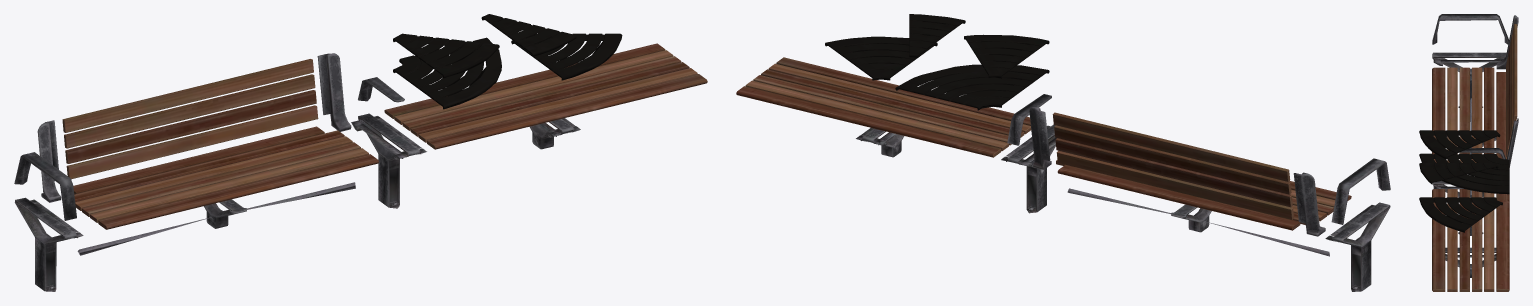
3 views of the same model, side by side, from view 1: azimuth 30°, elevation 25°; view 2: azimuth 150°, elevation 25°; view 3: azimuth 270°, elevation 25° (orthographic). The views are drawn at different scales.
Parts seen in each view (by area): view 1: seat_back, seat, seat_bench, connector_90, legs_double, connector_45, legs_single, connector_60, connector_30, back_support_l, arm_rest_01, back_support_r (+4 smaller); view 2: seat_bench, seat_back, connector_90, seat, connector_60, legs_single, connector_45, legs_double, connector_30, arm_rest_01, back_support_r, back_support_l (+4 smaller); view 3: seat_bench, seat, connector_90, connector_60, connector_45, seat_back, connector_30, legs_single, arm_rest_01, back_support_r, back_support_l, legs_double (+2 smaller).
Boxes of the visible parts, bbox=[...] form: seat_back: bbox=[62, 59, 318, 179]; seat: bbox=[73, 126, 378, 229]; seat_bench: bbox=[384, 43, 707, 149]; connector_90: bbox=[393, 37, 501, 109]; legs_double: bbox=[351, 113, 426, 208]; connector_45: bbox=[393, 33, 499, 78]; legs_single: bbox=[14, 197, 83, 291]; connector_60: bbox=[511, 33, 622, 80]; connector_30: bbox=[481, 14, 576, 56]; back_support_l: bbox=[317, 53, 351, 131]; arm_rest_01: bbox=[14, 152, 76, 220]; back_support_r: bbox=[37, 120, 61, 202]; seat_bench: bbox=[736, 57, 1031, 157]; seat_back: bbox=[1052, 112, 1294, 219]; connector_90: bbox=[895, 64, 1049, 110]; seat: bbox=[1056, 160, 1351, 230]; connector_60: bbox=[825, 36, 937, 80]; legs_single: bbox=[1325, 202, 1390, 291]; connector_45: bbox=[964, 34, 1049, 78]; legs_double: bbox=[1001, 124, 1056, 213]; connector_30: bbox=[909, 14, 965, 57]; arm_rest_01: bbox=[1331, 158, 1390, 224]; back_support_r: bbox=[1293, 172, 1325, 236]; back_support_l: bbox=[1029, 107, 1051, 169]; seat_bench: bbox=[1432, 189, 1509, 291]; seat: bbox=[1432, 67, 1506, 162]; connector_90: bbox=[1419, 153, 1509, 194]; connector_60: bbox=[1419, 197, 1502, 232]; connector_45: bbox=[1419, 130, 1500, 159]; seat_back: bbox=[1506, 24, 1517, 157]; connector_30: bbox=[1419, 163, 1498, 184]; legs_single: bbox=[1432, 52, 1506, 107]; arm_rest_01: bbox=[1432, 14, 1508, 44]; back_support_r: bbox=[1496, 15, 1518, 69]; back_support_l: bbox=[1507, 118, 1518, 167]; legs_double: bbox=[1433, 180, 1483, 235].
Bounding box in the file's own units: 4.34 × 0.95 × 0.7704.
4 materials, 4 textured.
